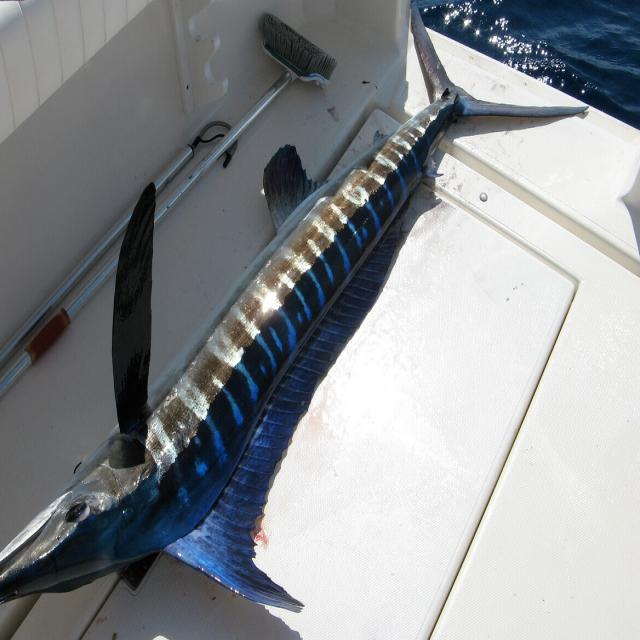Liberacion no segura: (1, 1, 591, 610)
